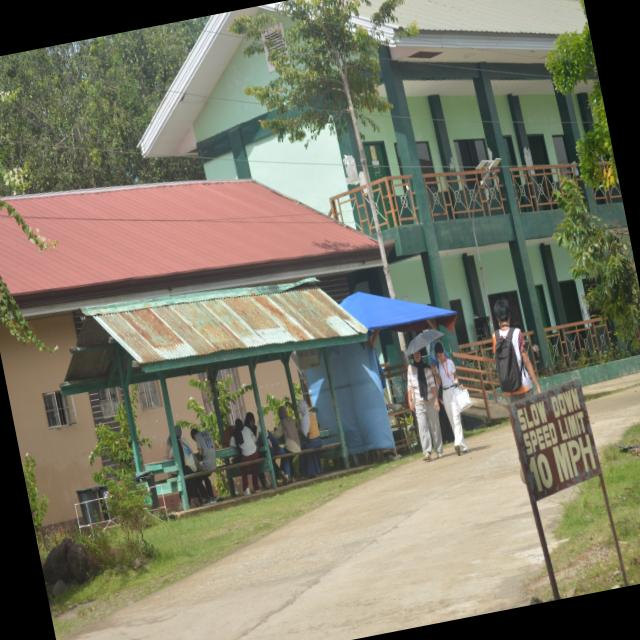person: (493, 298, 541, 402), (432, 342, 468, 455), (408, 352, 443, 461), (298, 400, 322, 450), (275, 407, 301, 453), (241, 464, 260, 495)
